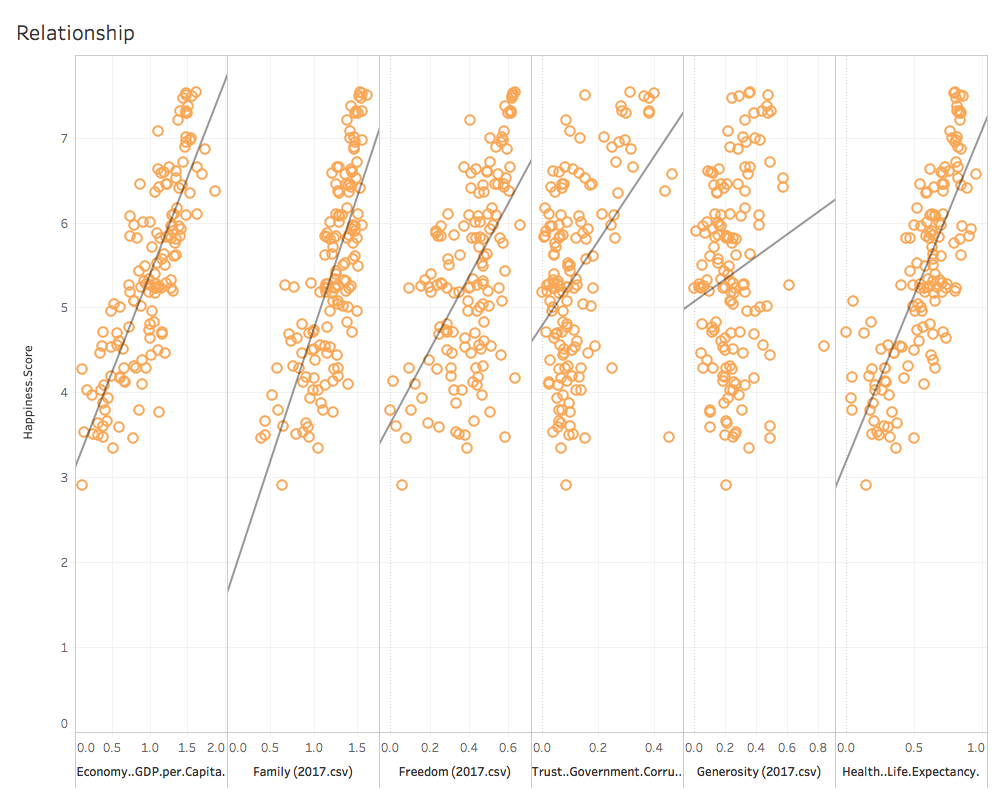

Layout of this report page (visuals, bound fields, positions):
{"tool":"tableau","page":{"name":"Dashboard 4","canvas":[1000,800],"ordinal":3},"visuals":[{"type":"worksheet","title":"Relationship","mark":"Automatic","rows":["Happiness.Score"],"cols":["Economy..GDP.per.Capita.","Family (2017.csv)","Freedom (2017.csv)","Trust..Government.Corruption.","Generosity (2017.csv)","Health..Life.Expectancy."],"box":[8,8,984,784]}]}

Visuals, with their boxes in screenshot pixels (x1, y1, x2, y2), scaled from the page's 1000x800 canvas onto the 1000x800 screenshot:
"Relationship" worksheet: bbox=[8, 8, 992, 792]
